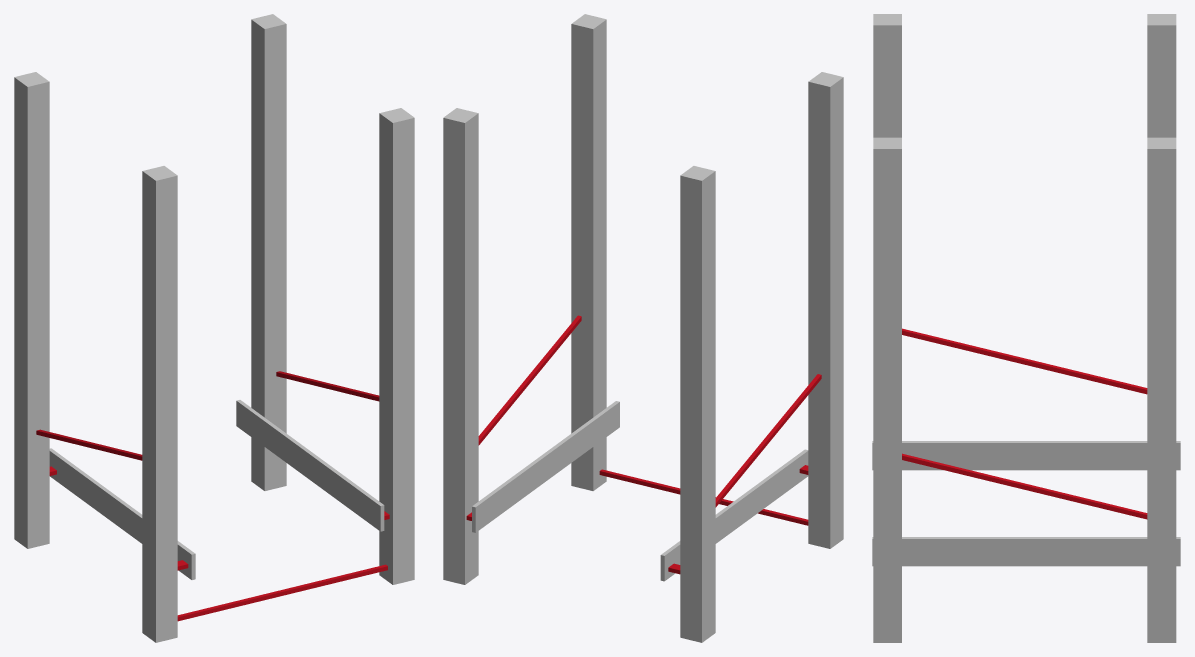
The model's file is singleTrace.obj.
The picture shows the model from 3 angles, left to right: view 1: azimuth 30°, elevation 25°; view 2: azimuth 150°, elevation 25°; view 3: azimuth 270°, elevation 25°; orthographic projection. The views are drawn at different scales.
Parts seen in each view (by area): view 1: Cube.018_Cube.013, Cube.016_Cube.009, Cube.019_Cube.014, Cube.017_Cube.012, Cube.023_Cube.009, Cube.028_Cube.017, Cube.029, Cube.021_Cube.007, Cube.022_Cube.008; view 2: Cube.016_Cube.009, Cube.018_Cube.013, Cube.017_Cube.012, Cube.019_Cube.014, Cube.023_Cube.009, Cube.028_Cube.017, Cube.021_Cube.007, Cube.022_Cube.008, Cube.029; view 3: Cube.017_Cube.012, Cube.019_Cube.014, Cube.023_Cube.009, Cube.028_Cube.017, Cube.016_Cube.009, Cube.018_Cube.013, Cube.022_Cube.008, Cube.021_Cube.007.
Part boxes in pixels (x1,y1,x2,y2): Cube.018_Cube.013: (142,166,177,642); Cube.016_Cube.009: (14,72,49,548); Cube.019_Cube.014: (379,108,414,584); Cube.017_Cube.012: (251,14,286,490); Cube.023_Cube.009: (236,400,384,531); Cube.028_Cube.017: (49,448,195,579); Cube.029: (177,564,387,621); Cube.021_Cube.007: (36,429,142,460); Cube.022_Cube.008: (276,371,379,401); Cube.016_Cube.009: (680,166,715,642); Cube.018_Cube.013: (808,72,843,548); Cube.017_Cube.012: (443,108,478,584); Cube.019_Cube.014: (571,14,606,490); Cube.023_Cube.009: (472,401,619,532); Cube.028_Cube.017: (660,449,808,581); Cube.021_Cube.007: (715,374,821,507); Cube.022_Cube.008: (478,315,581,445); Cube.029: (599,469,808,525); Cube.017_Cube.012: (1147,137,1176,642); Cube.019_Cube.014: (873,137,901,642); Cube.023_Cube.009: (872,537,1180,566); Cube.028_Cube.017: (872,441,1180,470); Cube.016_Cube.009: (1147,14,1176,137); Cube.018_Cube.013: (873,14,901,137); Cube.022_Cube.008: (902,453,1147,519); Cube.021_Cube.007: (902,328,1147,394).
Bounding box in the file's own units: 136 × 232 × 131.
